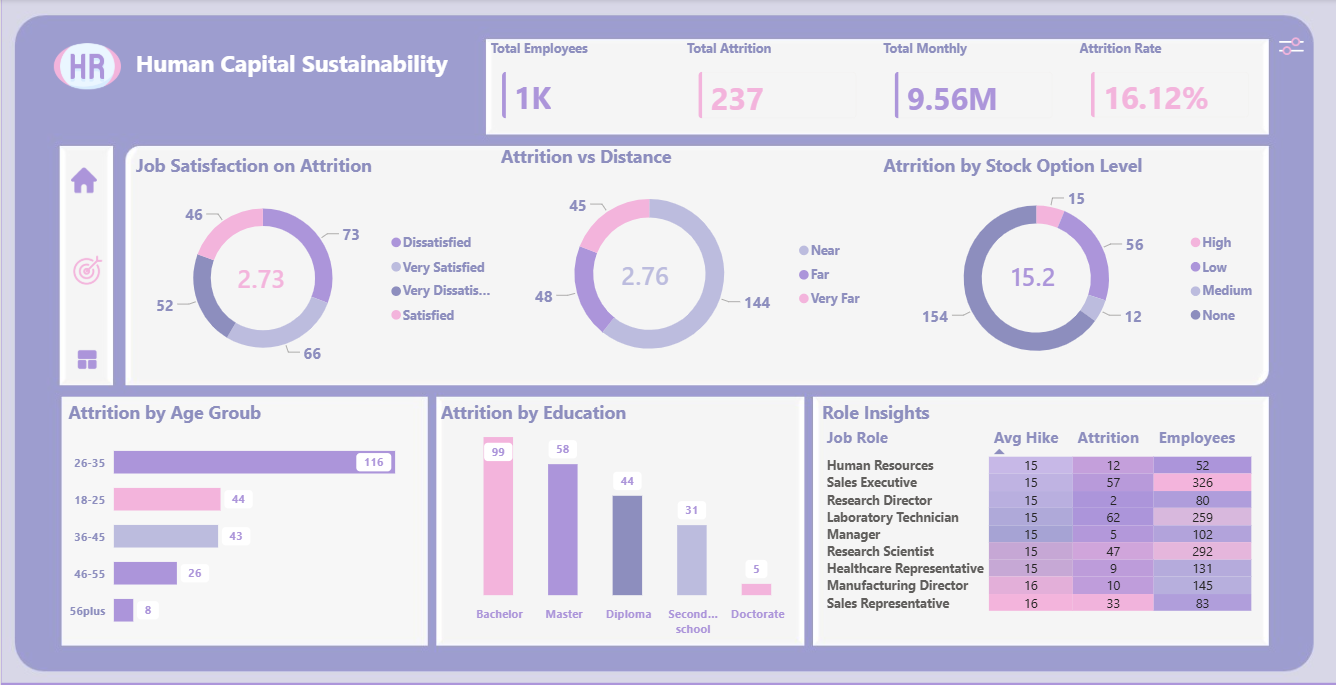

The dashboard page shown, as its layout file describes it:
{"tool":"powerbi","page":{"name":" Overview","canvas":[1400,720],"ordinal":1},"visuals":[{"type":"cardVisual","fields":{"Data":["Measure's.Avg Job Satisfaction"]},"box":[218.9,260.9,118,60.3],"z":0},{"type":"image","title":"Open","box":[1338.4,27.5,29.3,43.7],"z":1000,"group":"g1"},{"type":"cardVisual","fields":{"Data":["Measure's.Av Work Life Balance"]},"box":[621.3,254.3,124.5,66.9],"z":1000},{"type":"cardVisual","fields":{"Data":["Measure's.Av Salary Hike"]},"box":[1030.3,256.9,114,64.2],"z":2000},{"type":"cardVisual","title":"Total Employees","fields":{"Data":["Measure's.Total employee"]},"box":[508.6,41.9,201.9,100.9],"z":3000},{"type":"cardVisual","title":"Total Attrition","fields":{"Data":["Measure's.Total Attrition"]},"box":[715,41.9,200.6,100.9],"z":4000},{"type":"cardVisual","title":"Total Monthly","fields":{"Data":["Measure's.Total Mnthly income"]},"box":[920.4,41.9,200.6,100.9],"z":5000},{"type":"columnChart","title":"Attrition  by Education","fields":{"Y":["Measure's.Total Attrition"],"Category":["HR Employee Attrition.Education Status"]},"box":[456.2,420.8,386.7,255.6],"z":6000},{"type":"barChart","title":" Attrition by Age Groub","fields":{"Y":["Measure's.Total Attrition"],"Category":["HR Employee Attrition.Age Groub"]},"box":[65.5,420.8,380.1,254.3],"z":7000},{"type":"pivotTable","title":"Role Insights","fields":{"Rows":["HR Employee Attrition.Job Role"],"Values":["Measure's.Av Salary Hike","Measure's.Total Attrition","Measure's.Total employees"]},"box":[856,420.8,470.6,254.3],"z":8000},{"type":"donutChart","title":"Job Satisfaction on Attrition","fields":{"Y":["Measure's.Total Attrition"],"Category":["HR Employee Attrition.Job Satisfaction Status"]},"box":[136.3,161.2,391.9,238.6],"z":9000},{"type":"cardVisual","title":"Attrition Rate","fields":{"Data":["Measure's.Attrition Rate"]},"box":[1125.8,41.9,200.6,100],"z":10000},{"type":"donutChart","title":"Atrrition by Stock Option Level","fields":{"Series":["HR Employee Attrition.Stock Option Level Status"],"Y":["Measure's.Total Attrition"]},"box":[920.2,161.2,406.4,238.6],"z":11000},{"type":"donutChart","title":"Attrition vs Distance","fields":{"Category":["HR Employee Attrition.Distance status"],"Y":["Measure's.Total Attrition"]},"box":[519.1,152.1,395.9,247.8],"z":12000},{"type":"group","id":"g1","title":"O&C 1","box":[1338.4,21,41.9,49.8],"z":14000},{"type":"image","box":[49.8,35.4,81.3,70.8],"z":15000},{"type":"image","box":[80,360.5,21,35.4],"z":16000},{"type":"textbox","box":[136.3,45.9,347.4,115.4],"z":17000},{"type":"image","box":[73.4,241.2,35.4,86.5],"z":18000},{"type":"image","box":[73.4,171.7,27.5,36.7],"z":19000}]}

Visuals, with their boxes in screenshot pixels (x1, y1, x2, y2), scaled from the page's 1400x720 canvas onto the 1336x685 screenshot:
cardVisual - Measure's.Avg Job Satisfaction: (209,248,321,306)
"Open" image: (1277,26,1305,68)
cardVisual - Measure's.Av Work Life Balance: (593,242,712,306)
cardVisual - Measure's.Av Salary Hike: (983,244,1092,305)
"Total Employees" cardVisual: (485,40,678,136)
"Total Attrition" cardVisual: (682,40,874,136)
"Total Monthly" cardVisual: (878,40,1070,136)
"Attrition  by Education" columnChart: (435,400,804,644)
" Attrition by Age Groub" barChart: (63,400,425,642)
"Role Insights" pivotTable: (817,400,1266,642)
"Job Satisfaction on Attrition" donutChart: (130,153,504,380)
"Attrition Rate" cardVisual: (1074,40,1266,135)
"Atrrition by Stock Option Level" donutChart: (878,153,1266,380)
"Attrition vs Distance" donutChart: (495,145,873,380)
"O&C 1" group: (1277,20,1317,67)
image: (48,34,125,101)
image: (76,343,96,377)
textbox: (130,44,462,153)
image: (70,229,104,312)
image: (70,163,96,198)
